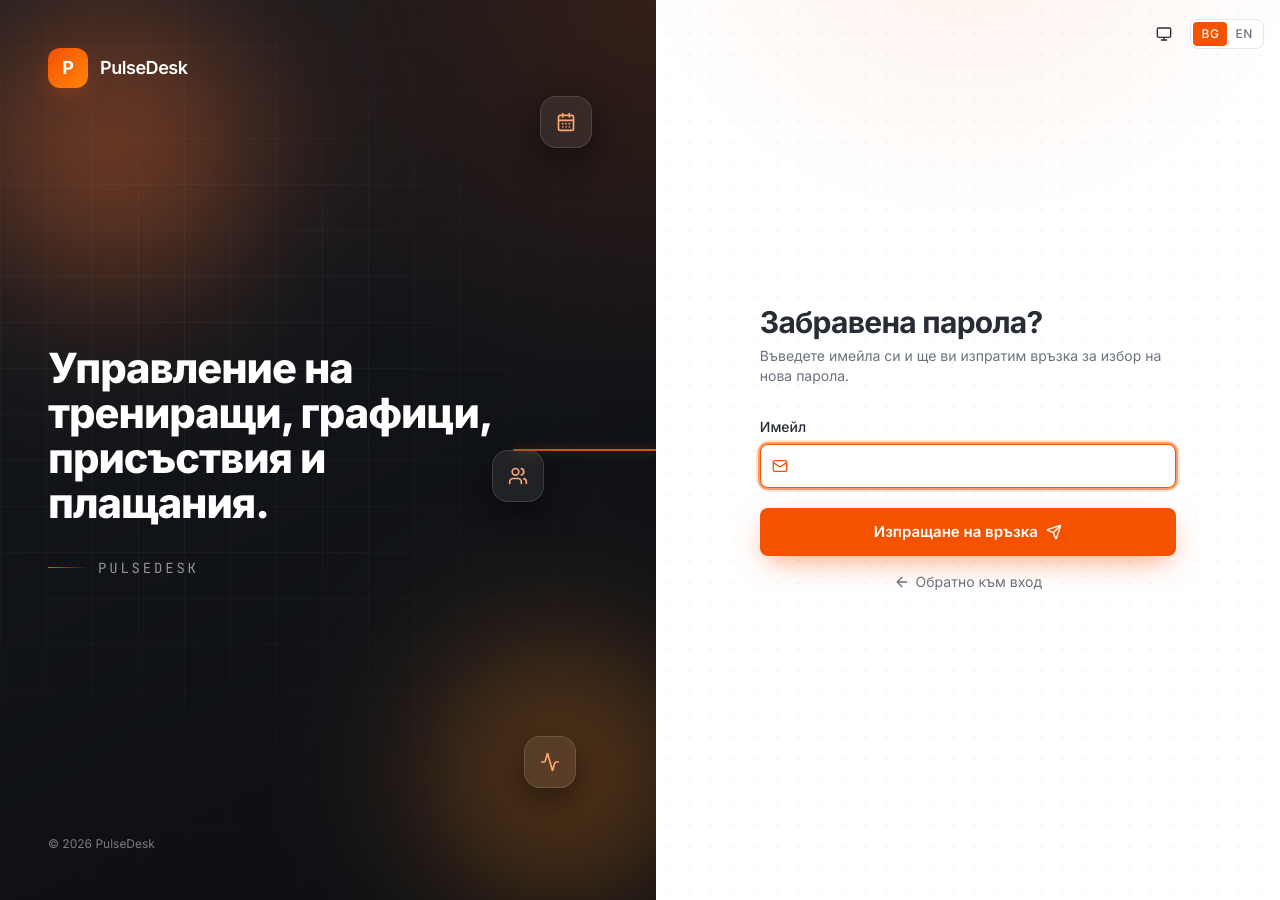
Test: ForgotPasswordPage › submits the email and replaces the form with a success message
The width and height of the screenshot is (1280, 900).
Type "me@example.com" into the field labelled "Имейл" at (968, 466), box [760, 444, 1176, 488]
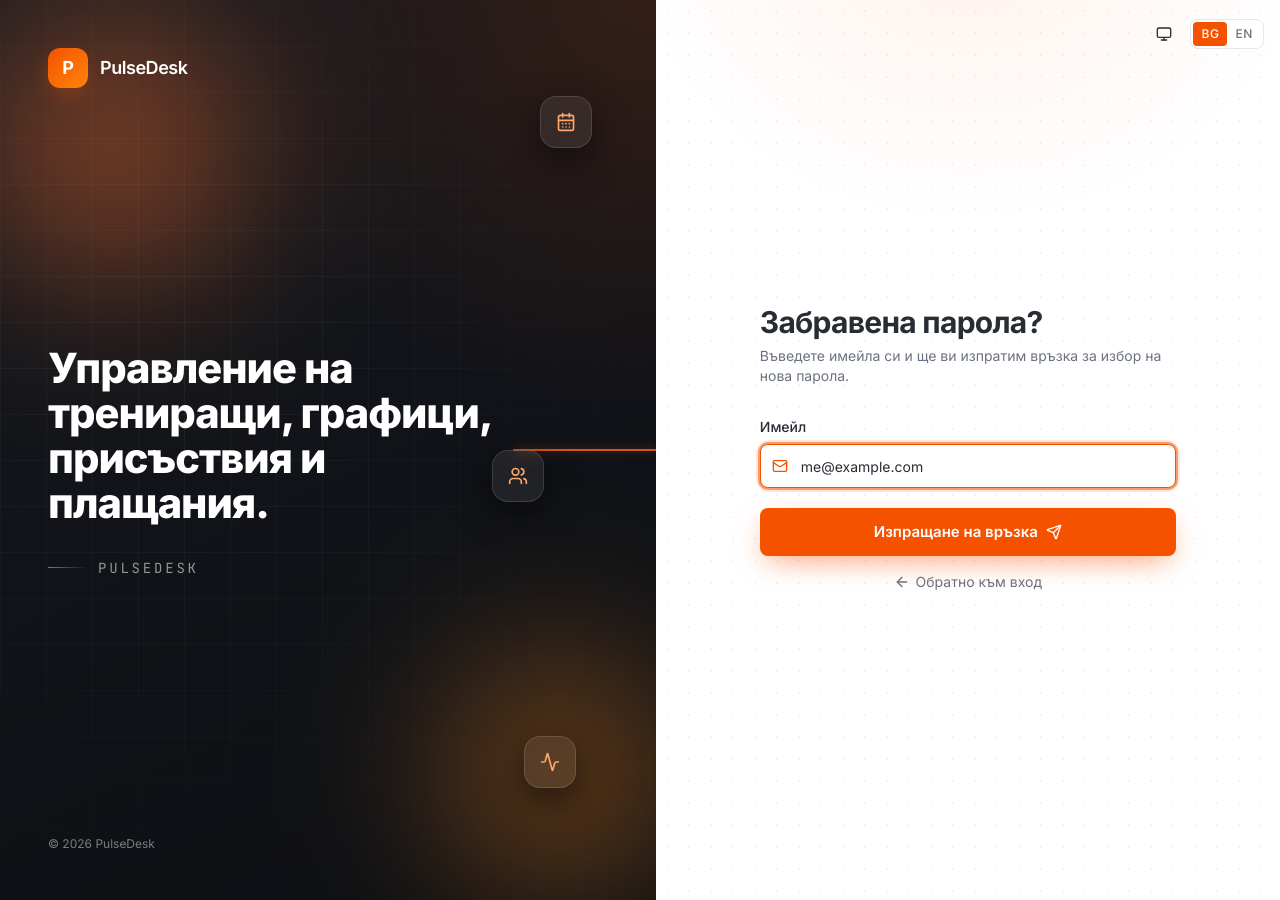
Click the button "Изпращане на връзка" at (968, 532), box [760, 508, 1176, 556]
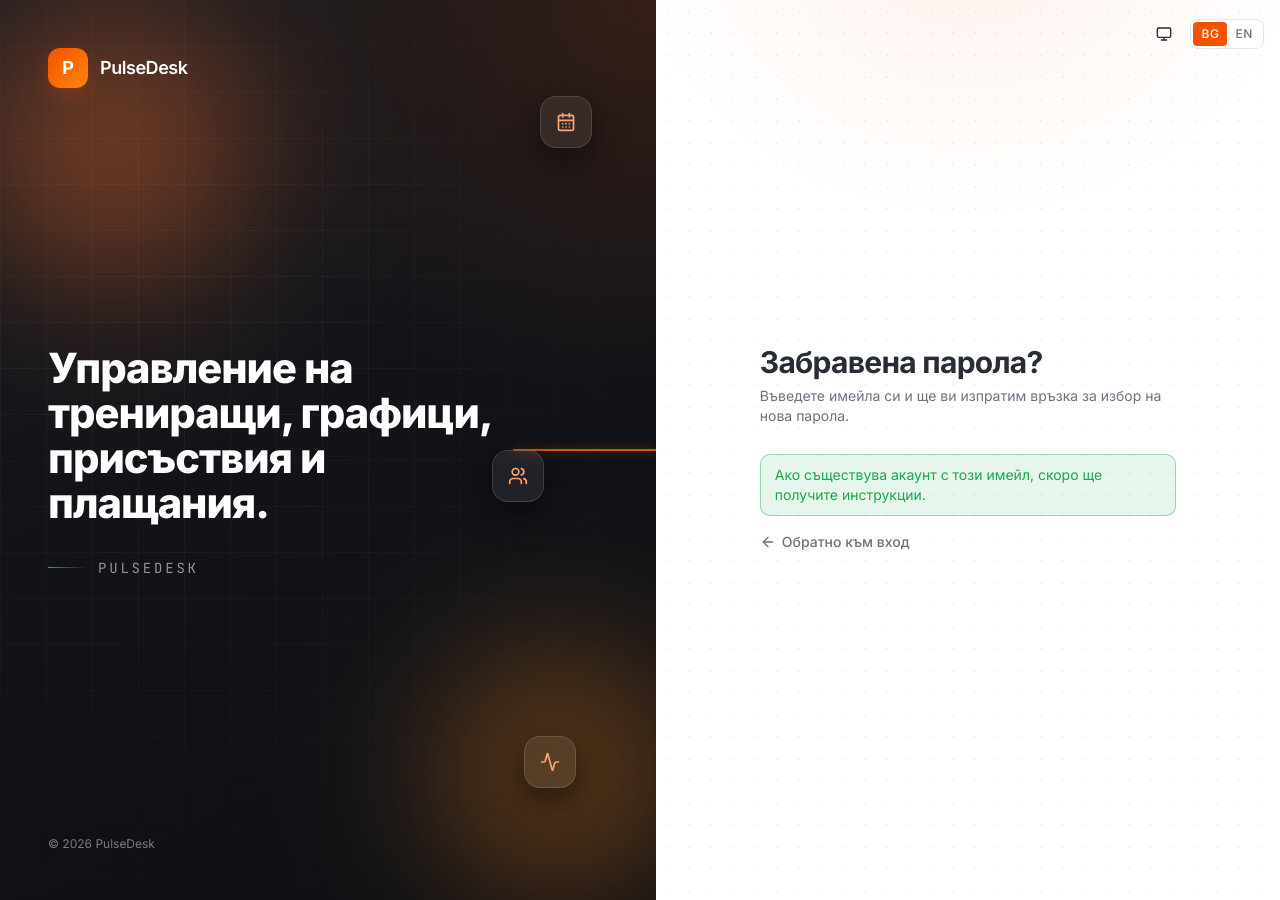
Expected: the message reads "Ако съществува акаунт с този имейл, скоро ще получите инструкции.", [775, 466, 1102, 503]
